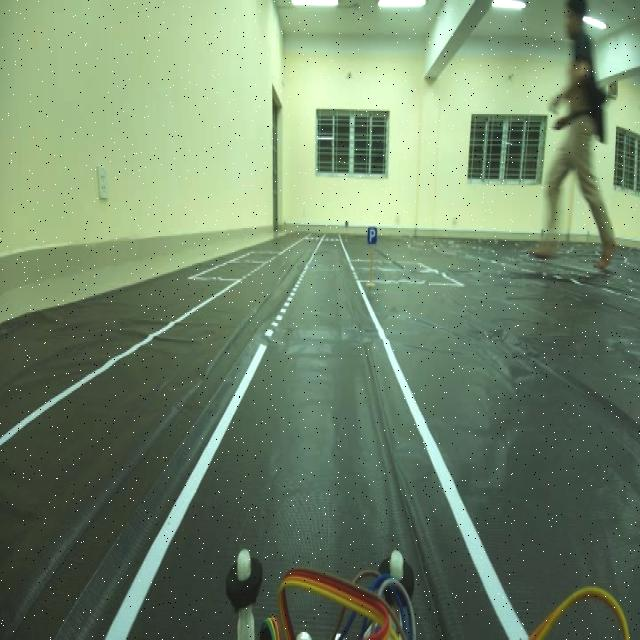parking: (362, 217, 380, 253)
